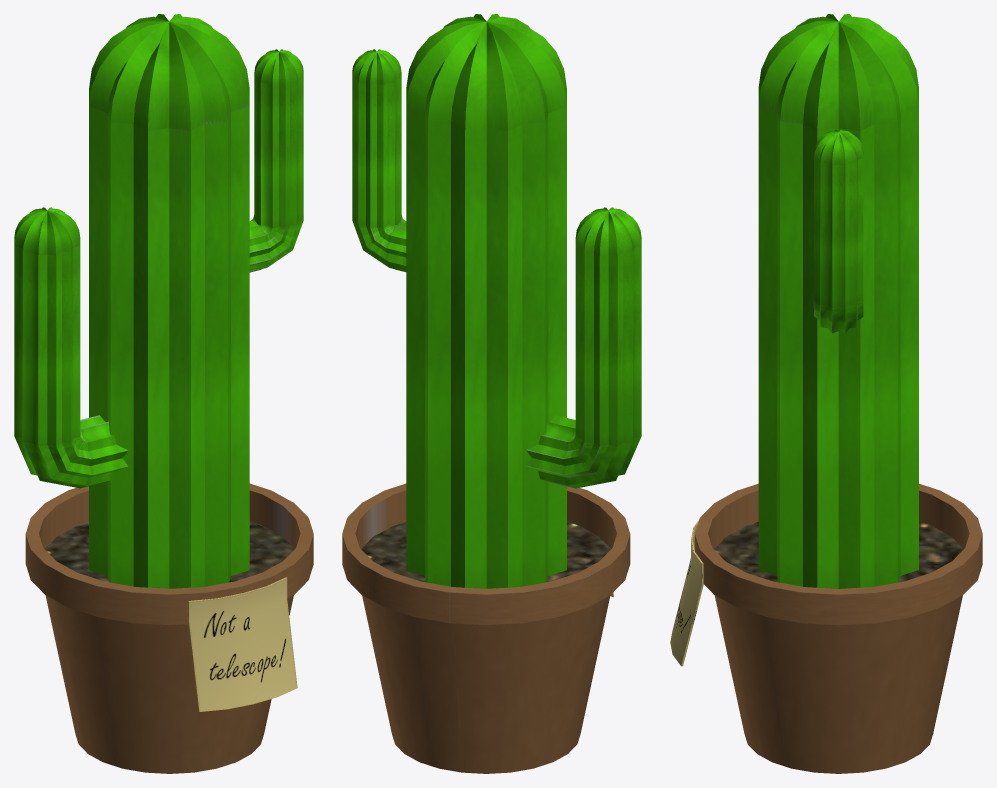
The model's file is Cactus.FBX.
3 views of the same model, side by side, from view 1: azimuth 30°, elevation 25°; view 2: azimuth 150°, elevation 25°; view 3: azimuth 270°, elevation 25° (orthographic).
Parts seen in each view (by area): view 1: Capsule001, Cylinder001, Capsule002, Box001, Capsule003; view 2: Capsule001, Cylinder001, Capsule002, Capsule003; view 3: Capsule001, Cylinder001, Capsule003, Box001.
Part boxes in pixels (x1,y1,x2,y2): Capsule001: [89, 14, 249, 588]; Cylinder001: [25, 483, 313, 773]; Capsule002: [14, 207, 128, 488]; Box001: [188, 577, 297, 711]; Capsule003: [249, 49, 303, 272]; Capsule001: [406, 14, 566, 588]; Cylinder001: [342, 483, 630, 773]; Capsule002: [526, 207, 641, 488]; Capsule003: [352, 49, 406, 271]; Capsule001: [758, 14, 918, 588]; Cylinder001: [695, 483, 982, 773]; Capsule003: [813, 129, 863, 333]; Box001: [670, 519, 703, 666].
Size of the model in its own units: 0.2281 by 0.5513 by 0.2191.
1 material, 1 textured.
